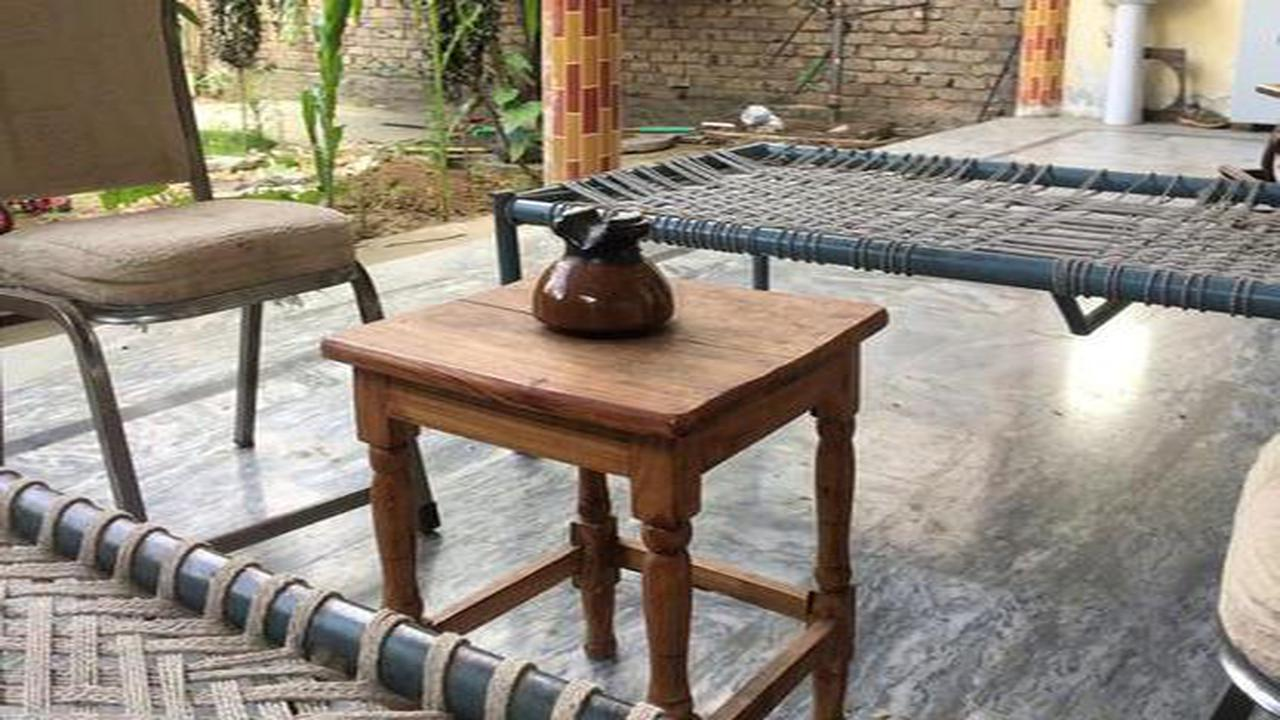insulator_pin: (517, 193, 696, 354)
